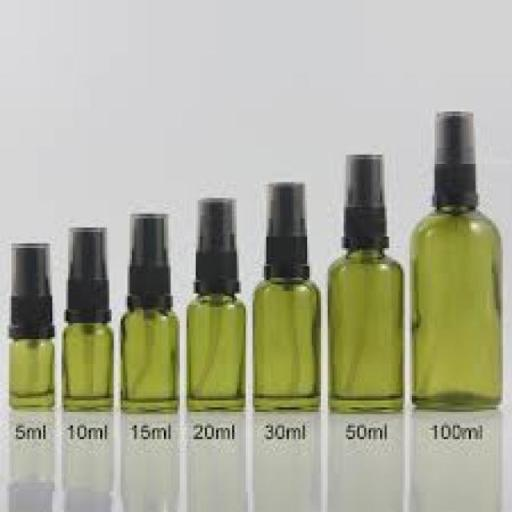glass: (410, 118, 502, 409), (328, 159, 405, 412), (253, 185, 321, 412), (188, 200, 248, 410), (122, 214, 178, 413), (63, 229, 114, 411), (8, 245, 54, 410)
